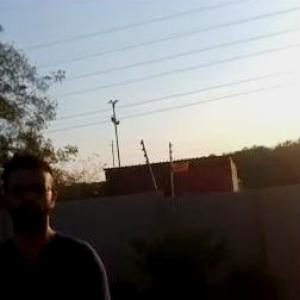follow: (1, 149, 124, 299)
